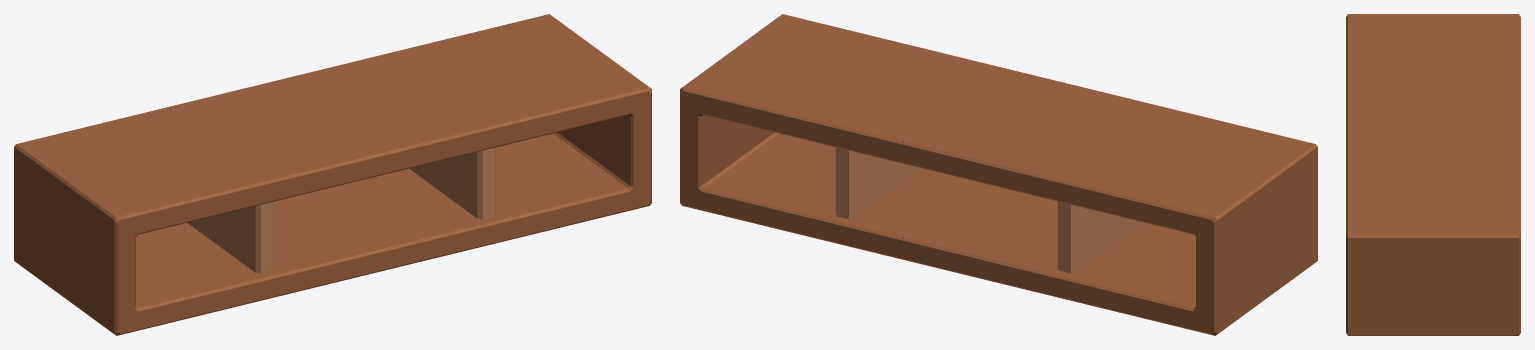
Rendered from shelf.gltf.
3 renders of one model, left to right at view 1: azimuth 30°, elevation 25°; view 2: azimuth 150°, elevation 25°; view 3: azimuth 270°, elevation 25°, orthographic. The views are drawn at different scales.
Parts seen in each view (by area): view 1: Shelf; view 2: Shelf; view 3: Shelf.
Boxes of the visible parts, x1=… form: Shelf: x1=14, y1=14, x2=651, y2=335; Shelf: x1=680, y1=14, x2=1317, y2=335; Shelf: x1=1346, y1=14, x2=1520, y2=335.
Size of the model in its own units: 12.78 by 2.69 by 4.23.
